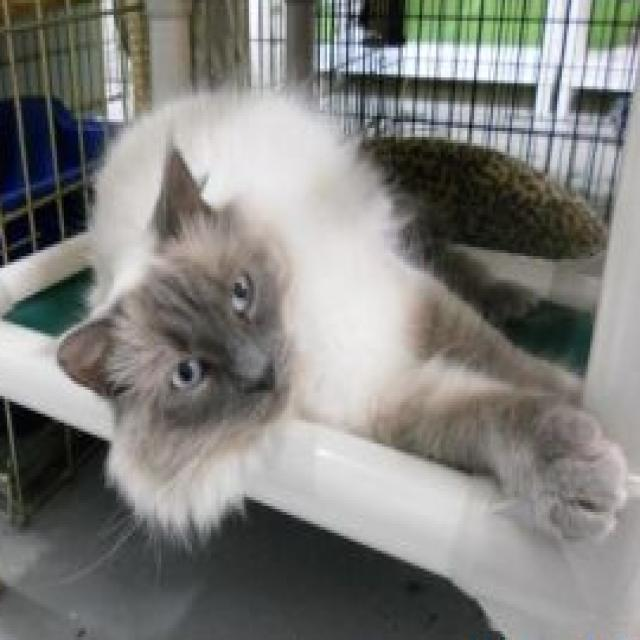Birman: (55, 78, 636, 551)
